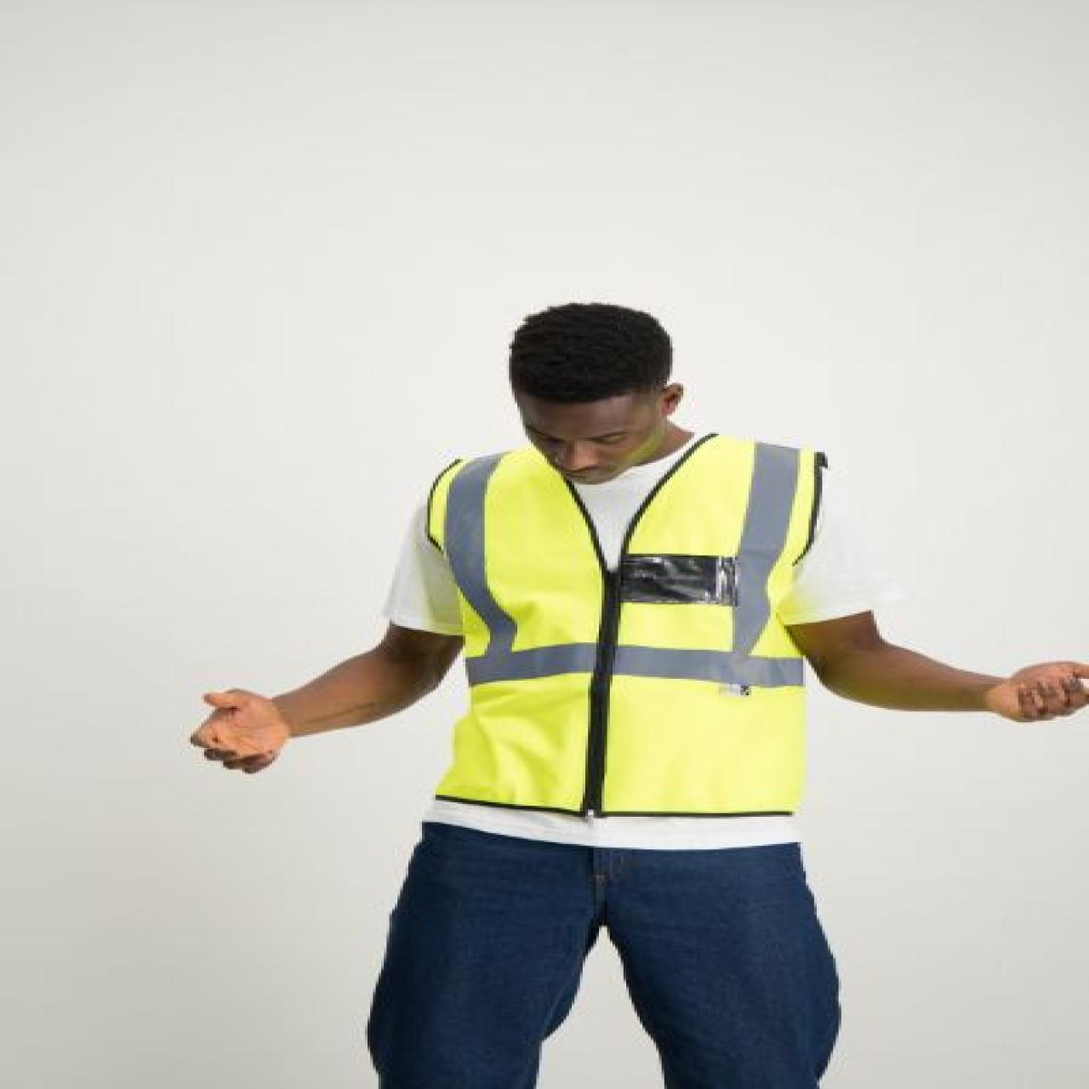Person: (166, 239, 1089, 1087)
Safety_Vest: (416, 428, 832, 819)
